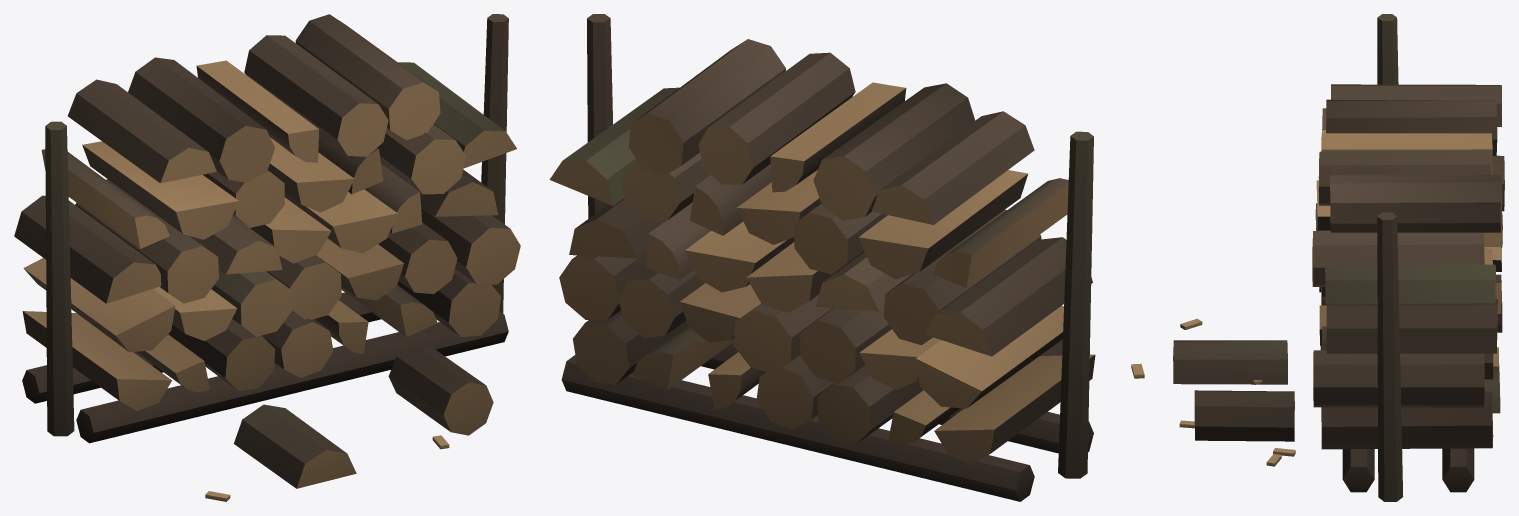
The model's file is ph_prop_wood_pile.glb.
3 renders of one model, left to right at view 1: azimuth 30°, elevation 25°; view 2: azimuth 150°, elevation 25°; view 3: azimuth 270°, elevation 25°, orthographic. The views are drawn at different scales.
Visible parts, largest first — view 1: ph_prop_wood_pile; view 2: ph_prop_wood_pile; view 3: ph_prop_wood_pile.
Boxes of the visible parts, x1,y1,x2,y2 form: ph_prop_wood_pile: (14, 14, 520, 501); ph_prop_wood_pile: (549, 14, 1144, 501); ph_prop_wood_pile: (1173, 14, 1504, 501).
Bounding box in the file's own units: 1.37 × 0.8827 × 0.9317.
